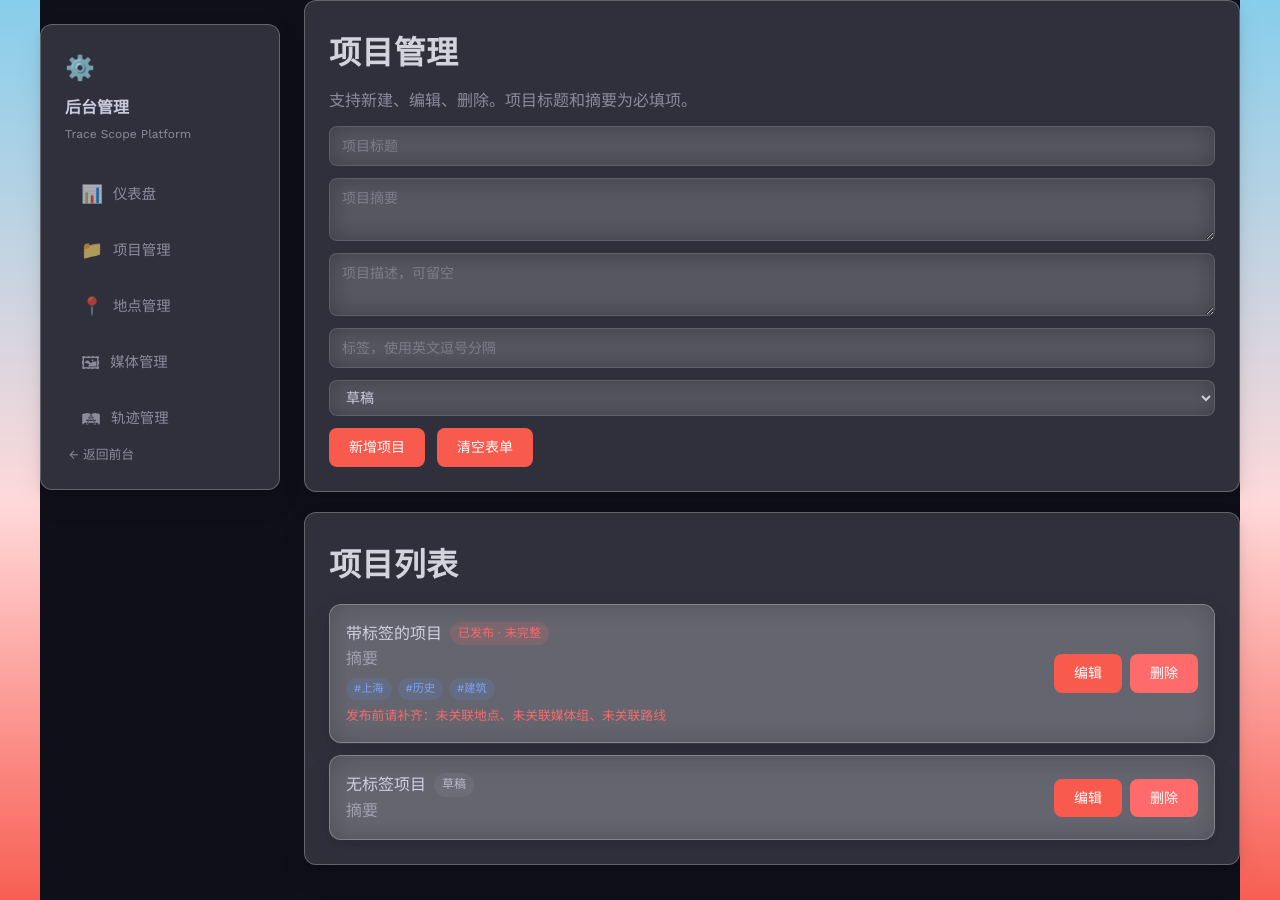
AdminProjectsPage › opens a cascade delete dialog when the delete button is clicked
This screenshot has width=1280, height=900.
Click the button with test id "project-delete-p-tags": (1164, 674) [1130, 654, 1198, 693]
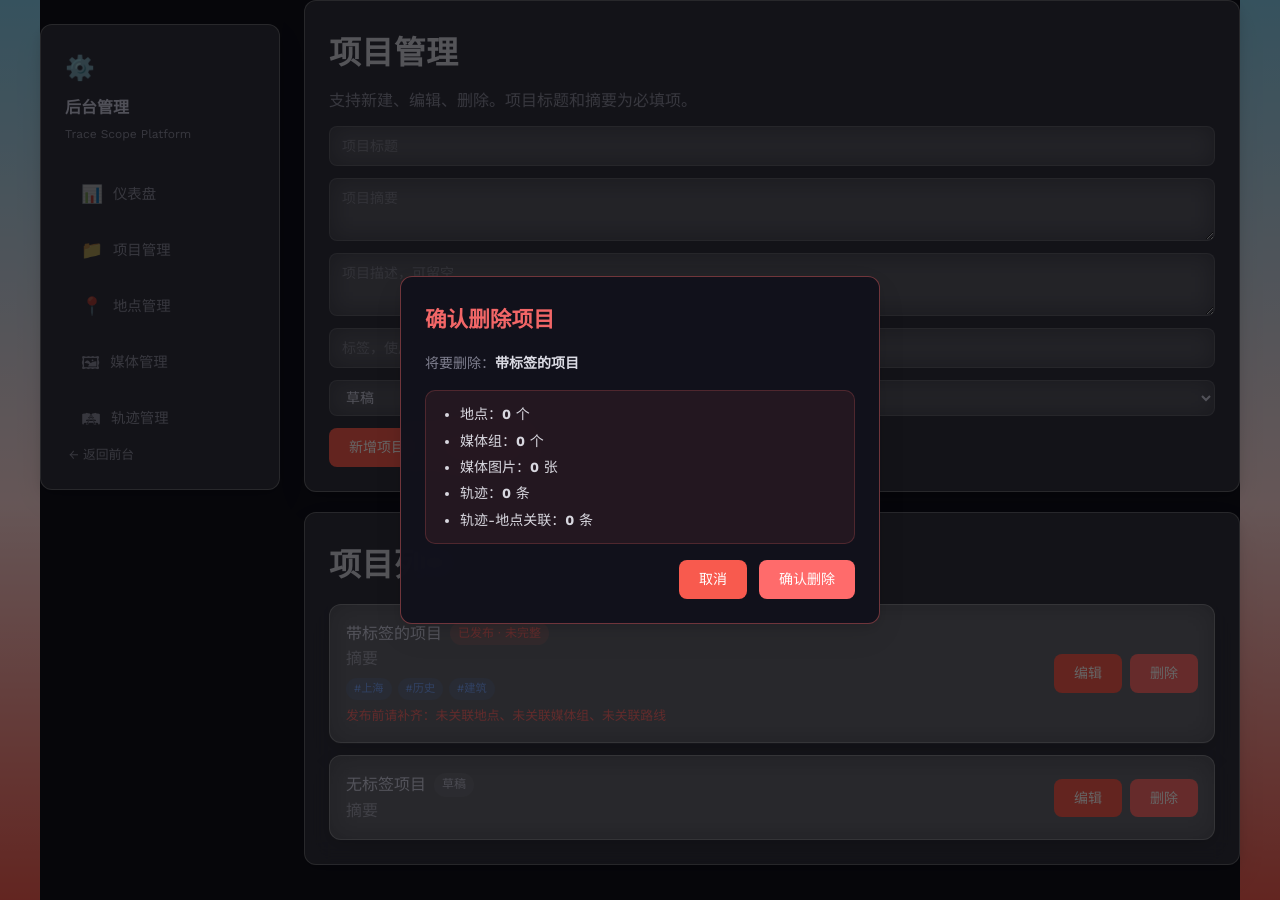
Expected: the dialog with test id "cascade-delete-overlay" is shown
